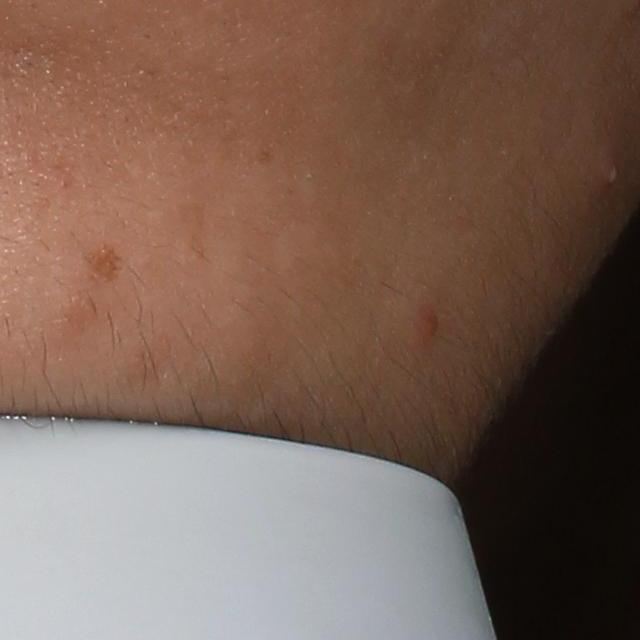papule: (410, 301, 450, 344)
pustule: (596, 144, 626, 194)
